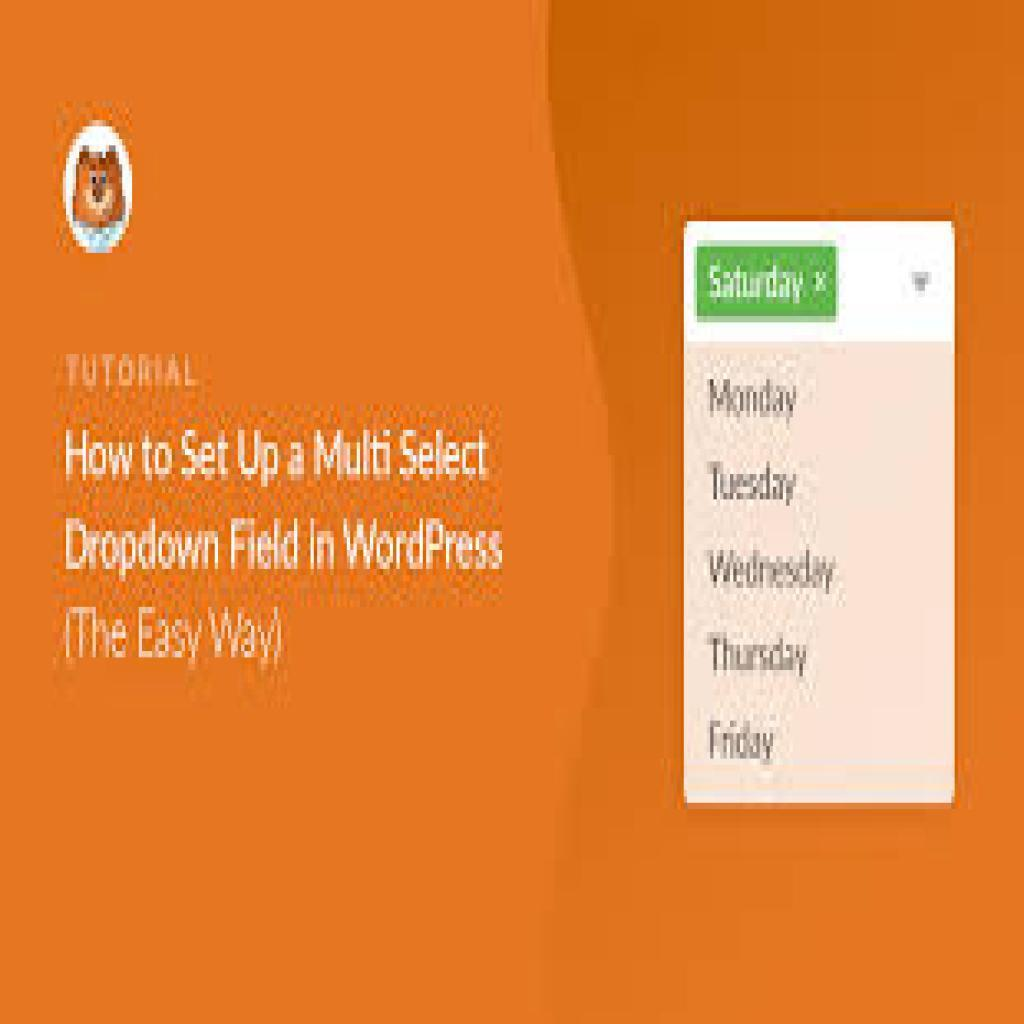dropdown: (683, 220, 959, 342)
